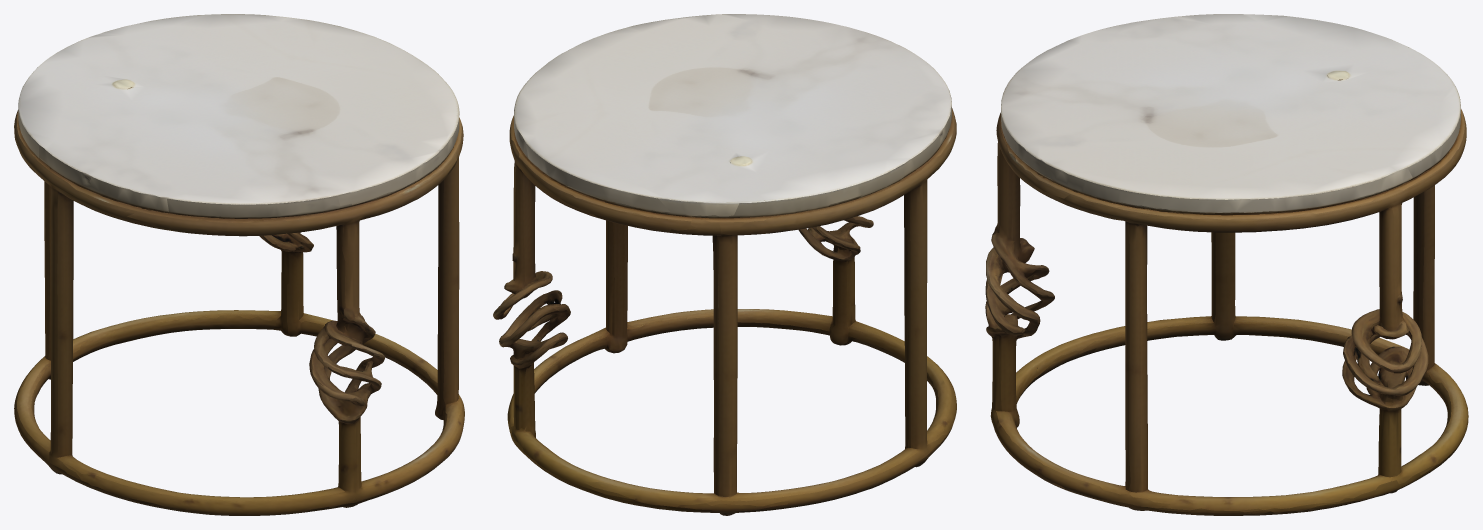
3 views of the same model, side by side, from view 1: azimuth 30°, elevation 25°; view 2: azimuth 150°, elevation 25°; view 3: azimuth 270°, elevation 25° (orthographic). The views are drawn at different scales.
Visible parts, largest first — view 1: geometry_0; view 2: geometry_0; view 3: geometry_0.
Part boxes in pixels (x1,y1,x2,y2): geometry_0: (14, 14, 464, 515); geometry_0: (493, 14, 956, 515); geometry_0: (985, 14, 1468, 515).
Bounding box in the file's own units: 1.87 × 1.47 × 2.
Materials: 1 (1 with a texture image).
